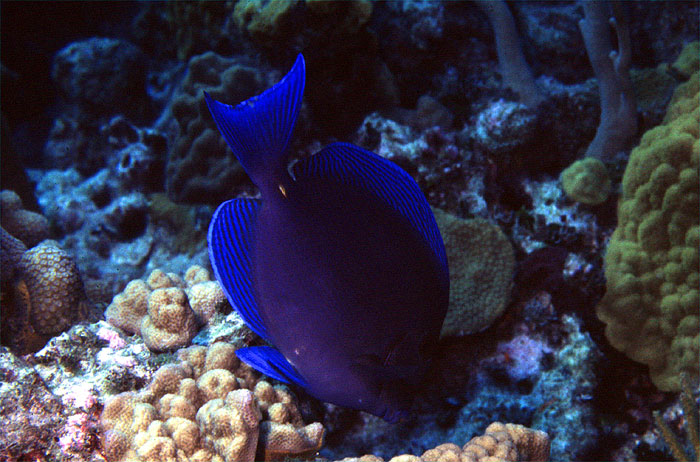Acanthurus_coeruleus: (196, 52, 454, 431)
